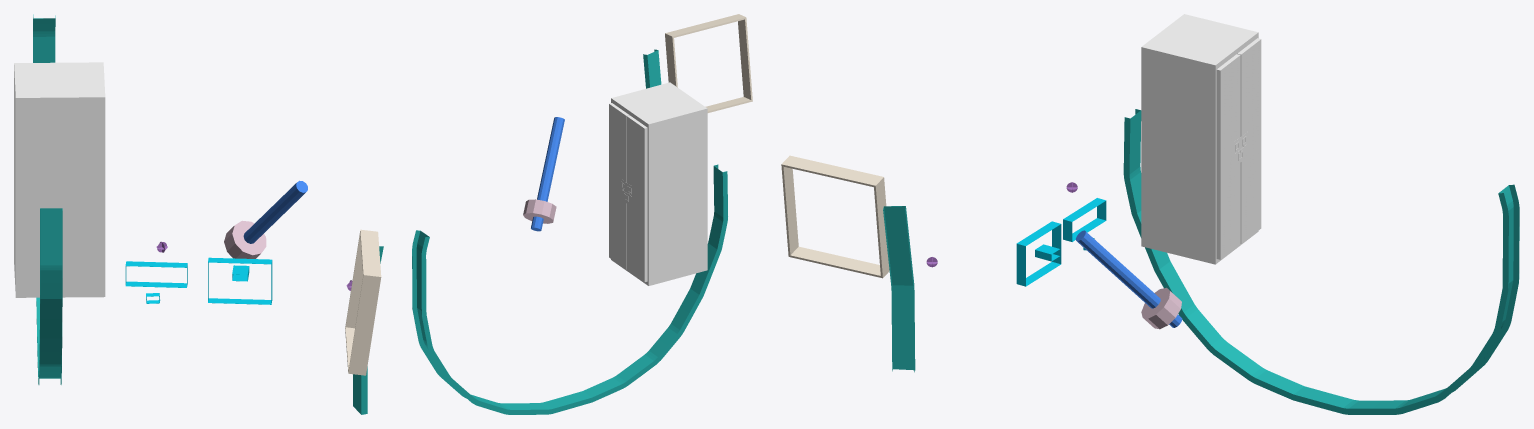
File: tile_251.glb
3 views of the same model, side by side, from view 1: azimuth 30°, elevation 25°; view 2: azimuth 150°, elevation 25°; view 3: azimuth 270°, elevation 25° (orthographic). The views are drawn at different scales.
Bounding box in the file's own units: 2.48 × 3.36 × 6.61.
